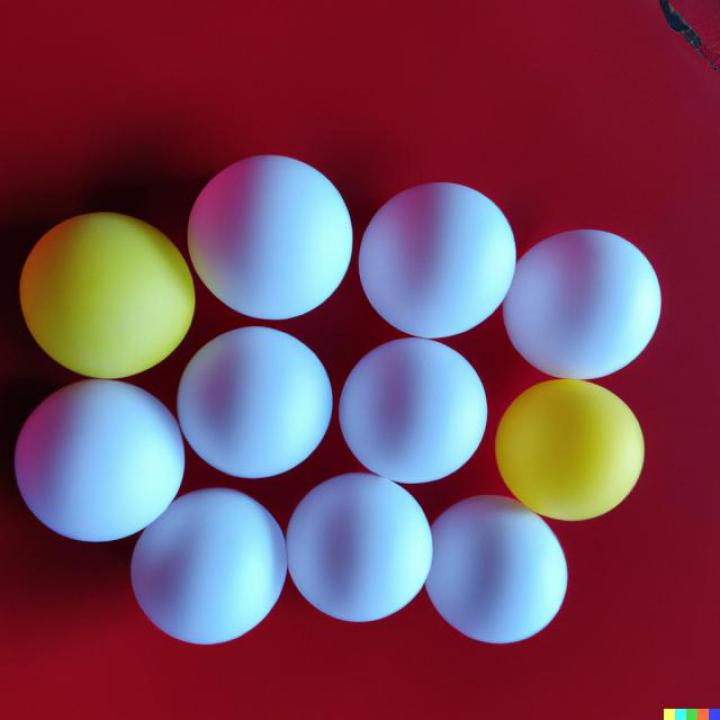white: (15, 379, 185, 545), (186, 155, 353, 321), (358, 182, 516, 340), (132, 489, 289, 645), (502, 229, 662, 381), (176, 326, 332, 480), (288, 474, 434, 624), (424, 494, 568, 646), (339, 340, 488, 485)
